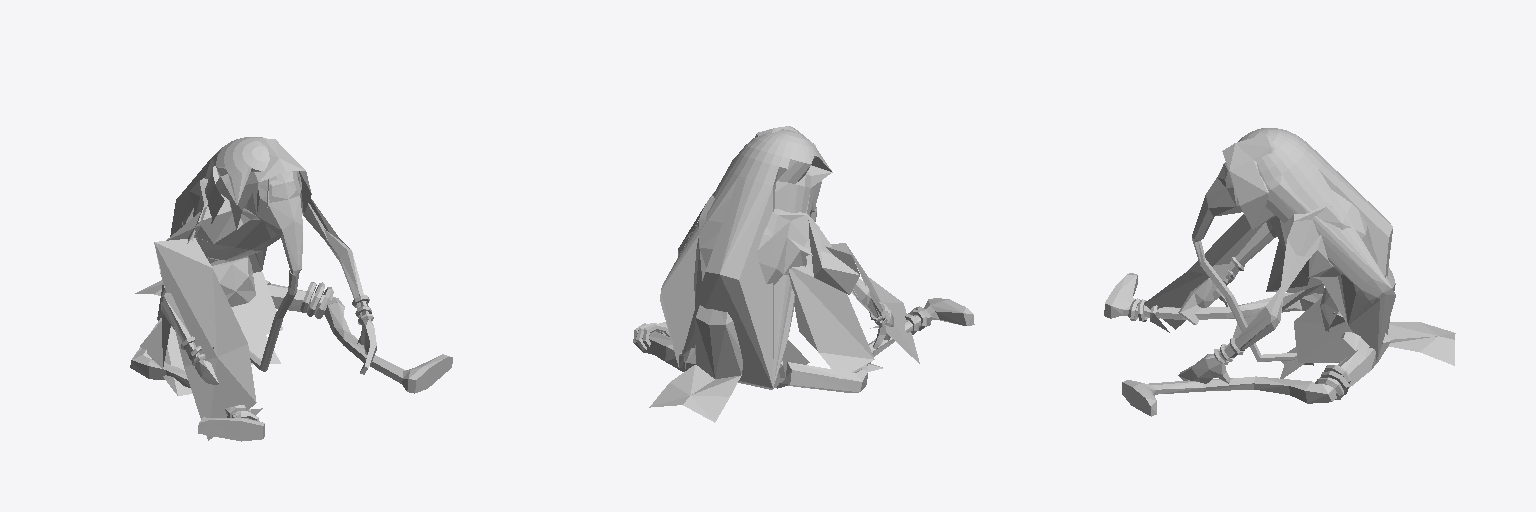
File: Stalkersitter.obj
The picture shows the model from 3 angles: view 1: azimuth 30°, elevation 25°; view 2: azimuth 150°, elevation 25°; view 3: azimuth 270°, elevation 25°; orthographic projection.
Parts seen in each view (by area): view 1: Legs_Low, UCX_convex_hull; view 2: Legs_Low, UCX_convex_hull; view 3: Legs_Low, UCX_convex_hull.
Part boxes in pixels (bbox=[...]): Legs_Low: bbox=[130, 138, 452, 441]; UCX_convex_hull: bbox=[157, 137, 301, 339]; Legs_Low: bbox=[633, 126, 974, 422]; UCX_convex_hull: bbox=[660, 129, 832, 389]; Legs_Low: bbox=[1104, 134, 1455, 416]; UCX_convex_hull: bbox=[1238, 128, 1395, 362].
Size of the model in its own units: 104 by 91.98 by 119.